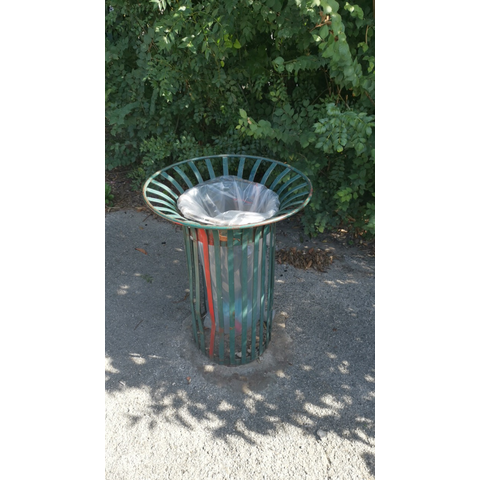poubelle: (139, 149, 320, 369)
